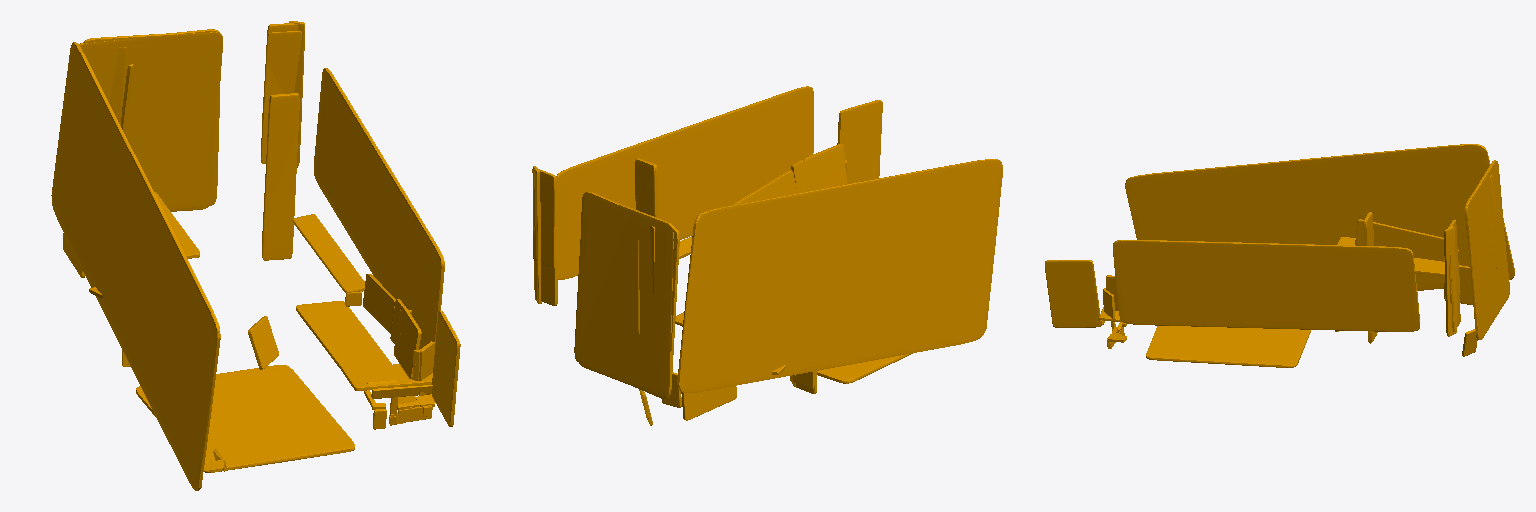
robot.urdf — scene:
<?xml version='1.0' encoding='utf-8'?>
<robot name="scene"><link name="scene_link"><visual><origin xyz="0.000000 0.000000 0.000000" rpy="0.000000 -0.000000 0.000000" /><geometry><mesh filename="part_000.obj" /></geometry></visual><collision><origin xyz="0.000000 0.000000 0.000000" rpy="0.000000 -0.000000 0.000000" /><geometry><mesh filename="part_000.obj" /></geometry></collision><visual><origin xyz="0.000000 0.000000 0.000000" rpy="0.000000 -0.000000 0.000000" /><geometry><mesh filename="part_001.obj" /></geometry></visual><collision><origin xyz="0.000000 0.000000 0.000000" rpy="0.000000 -0.000000 0.000000" /><geometry><mesh filename="part_001.obj" /></geometry></collision><visual><origin xyz="0.000000 0.000000 0.000000" rpy="0.000000 -0.000000 0.000000" /><geometry><mesh filename="part_002.obj" /></geometry></visual><collision><origin xyz="0.000000 0.000000 0.000000" rpy="0.000000 -0.000000 0.000000" /><geometry><mesh filename="part_002.obj" /></geometry></collision><visual><origin xyz="0.000000 0.000000 0.000000" rpy="0.000000 -0.000000 0.000000" /><geometry><mesh filename="part_003.obj" /></geometry></visual><collision><origin xyz="0.000000 0.000000 0.000000" rpy="0.000000 -0.000000 0.000000" /><geometry><mesh filename="part_003.obj" /></geometry></collision><visual><origin xyz="0.000000 0.000000 0.000000" rpy="0.000000 -0.000000 0.000000" /><geometry><mesh filename="part_004.obj" /></geometry></visual><collision><origin xyz="0.000000 0.000000 0.000000" rpy="0.000000 -0.000000 0.000000" /><geometry><mesh filename="part_004.obj" /></geometry></collision><visual><origin xyz="0.000000 0.000000 0.000000" rpy="0.000000 -0.000000 0.000000" /><geometry><mesh filename="part_005.obj" /></geometry></visual><collision><origin xyz="0.000000 0.000000 0.000000" rpy="0.000000 -0.000000 0.000000" /><geometry><mesh filename="part_005.obj" /></geometry></collision><visual><origin xyz="0.000000 0.000000 0.000000" rpy="0.000000 -0.000000 0.000000" /><geometry><mesh filename="part_006.obj" /></geometry></visual><collision><origin xyz="0.000000 0.000000 0.000000" rpy="0.000000 -0.000000 0.000000" /><geometry><mesh filename="part_006.obj" /></geometry></collision><visual><origin xyz="0.000000 0.000000 0.000000" rpy="0.000000 -0.000000 0.000000" /><geometry><mesh filename="part_007.obj" /></geometry></visual><collision><origin xyz="0.000000 0.000000 0.000000" rpy="0.000000 -0.000000 0.000000" /><geometry><mesh filename="part_007.obj" /></geometry></collision><visual><origin xyz="0.000000 0.000000 0.000000" rpy="0.000000 -0.000000 0.000000" /><geometry><mesh filename="part_008.obj" /></geometry></visual><collision><origin xyz="0.000000 0.000000 0.000000" rpy="0.000000 -0.000000 0.000000" /><geometry><mesh filename="part_008.obj" /></geometry></collision><visual><origin xyz="0.000000 0.000000 0.000000" rpy="0.000000 -0.000000 0.000000" /><geometry><mesh filename="part_009.obj" /></geometry></visual><collision><origin xyz="0.000000 0.000000 0.000000" rpy="0.000000 -0.000000 0.000000" /><geometry><mesh filename="part_009.obj" /></geometry></collision><visual><origin xyz="0.000000 0.000000 0.000000" rpy="0.000000 -0.000000 0.000000" /><geometry><mesh filename="part_010.obj" /></geometry></visual><collision><origin xyz="0.000000 0.000000 0.000000" rpy="0.000000 -0.000000 0.000000" /><geometry><mesh filename="part_010.obj" /></geometry></collision><visual><origin xyz="0.000000 0.000000 0.000000" rpy="0.000000 -0.000000 0.000000" /><geometry><mesh filename="part_011.obj" /></geometry></visual><collision><origin xyz="0.000000 0.000000 0.000000" rpy="0.000000 -0.000000 0.000000" /><geometry><mesh filename="part_011.obj" /></geometry></collision><visual><origin xyz="0.000000 0.000000 0.000000" rpy="0.000000 -0.000000 0.000000" /><geometry><mesh filename="part_012.obj" /></geometry></visual><collision><origin xyz="0.000000 0.000000 0.000000" rpy="0.000000 -0.000000 0.000000" /><geometry><mesh filename="part_012.obj" /></geometry></collision><visual><origin xyz="0.000000 0.000000 0.000000" rpy="0.000000 -0.000000 0.000000" /><geometry><mesh filename="part_013.obj" /></geometry></visual><collision><origin xyz="0.000000 0.000000 0.000000" rpy="0.000000 -0.000000 0.000000" /><geometry><mesh filename="part_013.obj" /></geometry></collision><visual><origin xyz="0.000000 0.000000 0.000000" rpy="0.000000 -0.000000 0.000000" /><geometry><mesh filename="part_014.obj" /></geometry></visual><collision><origin xyz="0.000000 0.000000 0.000000" rpy="0.000000 -0.000000 0.000000" /><geometry><mesh filename="part_014.obj" /></geometry></collision><visual><origin xyz="0.000000 0.000000 0.000000" rpy="0.000000 -0.000000 0.000000" /><geometry><mesh filename="part_015.obj" /></geometry></visual><collision><origin xyz="0.000000 0.000000 0.000000" rpy="0.000000 -0.000000 0.000000" /><geometry><mesh filename="part_015.obj" /></geometry></collision><visual><origin xyz="0.000000 0.000000 0.000000" rpy="0.000000 -0.000000 0.000000" /><geometry><mesh filename="part_016.obj" /></geometry></visual><collision><origin xyz="0.000000 0.000000 0.000000" rpy="0.000000 -0.000000 0.000000" /><geometry><mesh filename="part_016.obj" /></geometry></collision><visual><origin xyz="0.000000 0.000000 0.000000" rpy="0.000000 -0.000000 0.000000" /><geometry><mesh filename="part_017.obj" /></geometry></visual><collision><origin xyz="0.000000 0.000000 0.000000" rpy="0.000000 -0.000000 0.000000" /><geometry><mesh filename="part_017.obj" /></geometry></collision><visual><origin xyz="0.000000 0.000000 0.000000" rpy="0.000000 -0.000000 0.000000" /><geometry><mesh filename="part_018.obj" /></geometry></visual><collision><origin xyz="0.000000 0.000000 0.000000" rpy="0.000000 -0.000000 0.000000" /><geometry><mesh filename="part_018.obj" /></geometry></collision><visual><origin xyz="0.000000 0.000000 0.000000" rpy="0.000000 -0.000000 0.000000" /><geometry><mesh filename="part_019.obj" /></geometry></visual><collision><origin xyz="0.000000 0.000000 0.000000" rpy="0.000000 -0.000000 0.000000" /><geometry><mesh filename="part_019.obj" /></geometry></collision><visual><origin xyz="0.000000 0.000000 0.000000" rpy="0.000000 -0.000000 0.000000" /><geometry><mesh filename="part_020.obj" /></geometry></visual><collision><origin xyz="0.000000 0.000000 0.000000" rpy="0.000000 -0.000000 0.000000" /><geometry><mesh filename="part_020.obj" /></geometry></collision><visual><origin xyz="0.000000 0.000000 0.000000" rpy="0.000000 -0.000000 0.000000" /><geometry><mesh filename="part_021.obj" /></geometry></visual><collision><origin xyz="0.000000 0.000000 0.000000" rpy="0.000000 -0.000000 0.000000" /><geometry><mesh filename="part_021.obj" /></geometry></collision><visual><origin xyz="0.000000 0.000000 0.000000" rpy="0.000000 -0.000000 0.000000" /><geometry><mesh filename="part_022.obj" /></geometry></visual><collision><origin xyz="0.000000 0.000000 0.000000" rpy="0.000000 -0.000000 0.000000" /><geometry><mesh filename="part_022.obj" /></geometry></collision><visual><origin xyz="0.000000 0.000000 0.000000" rpy="0.000000 -0.000000 0.000000" /><geometry><mesh filename="part_023.obj" /></geometry></visual><collision><origin xyz="0.000000 0.000000 0.000000" rpy="0.000000 -0.000000 0.000000" /><geometry><mesh filename="part_023.obj" /></geometry></collision><visual><origin xyz="0.000000 0.000000 0.000000" rpy="0.000000 -0.000000 0.000000" /><geometry><mesh filename="part_024.obj" /></geometry></visual><collision><origin xyz="0.000000 0.000000 0.000000" rpy="0.000000 -0.000000 0.000000" /><geometry><mesh filename="part_024.obj" /></geometry></collision><visual><origin xyz="0.000000 0.000000 0.000000" rpy="0.000000 -0.000000 0.000000" /><geometry><mesh filename="part_025.obj" /></geometry></visual><collision><origin xyz="0.000000 0.000000 0.000000" rpy="0.000000 -0.000000 0.000000" /><geometry><mesh filename="part_025.obj" /></geometry></collision><visual><origin xyz="0.000000 0.000000 0.000000" rpy="0.000000 -0.000000 0.000000" /><geometry><mesh filename="part_026.obj" /></geometry></visual><collision><origin xyz="0.000000 0.000000 0.000000" rpy="0.000000 -0.000000 0.000000" /><geometry><mesh filename="part_026.obj" /></geometry></collision><visual><origin xyz="0.000000 0.000000 0.000000" rpy="0.000000 -0.000000 0.000000" /><geometry><mesh filename="part_027.obj" /></geometry></visual><collision><origin xyz="0.000000 0.000000 0.000000" rpy="0.000000 -0.000000 0.000000" /><geometry><mesh filename="part_027.obj" /></geometry></collision><visual><origin xyz="0.000000 0.000000 0.000000" rpy="0.000000 -0.000000 0.000000" /><geometry><mesh filename="part_028.obj" /></geometry></visual><collision><origin xyz="0.000000 0.000000 0.000000" rpy="0.000000 -0.000000 0.000000" /><geometry><mesh filename="part_028.obj" /></geometry></collision><visual><origin xyz="0.000000 0.000000 0.000000" rpy="0.000000 -0.000000 0.000000" /><geometry><mesh filename="part_029.obj" /></geometry></visual><collision><origin xyz="0.000000 0.000000 0.000000" rpy="0.000000 -0.000000 0.000000" /><geometry><mesh filename="part_029.obj" /></geometry></collision><visual><origin xyz="0.000000 0.000000 0.000000" rpy="0.000000 -0.000000 0.000000" /><geometry><mesh filename="part_030.obj" /></geometry></visual><collision><origin xyz="0.000000 0.000000 0.000000" rpy="0.000000 -0.000000 0.000000" /><geometry><mesh filename="part_030.obj" /></geometry></collision><visual><origin xyz="0.000000 0.000000 0.000000" rpy="0.000000 -0.000000 0.000000" /><geometry><mesh filename="part_031.obj" /></geometry></visual><collision><origin xyz="0.000000 0.000000 0.000000" rpy="0.000000 -0.000000 0.000000" /><geometry><mesh filename="part_031.obj" /></geometry></collision><visual><origin xyz="0.000000 0.000000 0.000000" rpy="0.000000 -0.000000 0.000000" /><geometry><mesh filename="part_032.obj" /></geometry></visual><collision><origin xyz="0.000000 0.000000 0.000000" rpy="0.000000 -0.000000 0.000000" /><geometry><mesh filename="part_032.obj" /></geometry></collision><visual><origin xyz="0.000000 0.000000 0.000000" rpy="0.000000 -0.000000 0.000000" /><geometry><mesh filename="part_033.obj" /></geometry></visual><collision><origin xyz="0.000000 0.000000 0.000000" rpy="0.000000 -0.000000 0.000000" /><geometry><mesh filename="part_033.obj" /></geometry></collision><visual><origin xyz="0.000000 0.000000 0.000000" rpy="0.000000 -0.000000 0.000000" /><geometry><mesh filename="part_034.obj" /></geometry></visual><collision><origin xyz="0.000000 0.000000 0.000000" rpy="0.000000 -0.000000 0.000000" /><geometry><mesh filename="part_034.obj" /></geometry></collision><visual><origin xyz="0.000000 0.000000 0.000000" rpy="0.000000 -0.000000 0.000000" /><geometry><mesh filename="part_035.obj" /></geometry></visual><collision><origin xyz="0.000000 0.000000 0.000000" rpy="0.000000 -0.000000 0.000000" /><geometry><mesh filename="part_035.obj" /></geometry></collision><visual><origin xyz="0.000000 0.000000 0.000000" rpy="0.000000 -0.000000 0.000000" /><geometry><mesh filename="part_036.obj" /></geometry></visual><collision><origin xyz="0.000000 0.000000 0.000000" rpy="0.000000 -0.000000 0.000000" /><geometry><mesh filename="part_036.obj" /></geometry></collision><visual><origin xyz="0.000000 0.000000 0.000000" rpy="0.000000 -0.000000 0.000000" /><geometry><mesh filename="part_037.obj" /></geometry></visual><collision><origin xyz="0.000000 0.000000 0.000000" rpy="0.000000 -0.000000 0.000000" /><geometry><mesh filename="part_037.obj" /></geometry></collision><visual><origin xyz="0.000000 0.000000 0.000000" rpy="0.000000 -0.000000 0.000000" /><geometry><mesh filename="part_038.obj" /></geometry></visual><collision><origin xyz="0.000000 0.000000 0.000000" rpy="0.000000 -0.000000 0.000000" /><geometry><mesh filename="part_038.obj" /></geometry></collision><visual><origin xyz="0.000000 0.000000 0.000000" rpy="0.000000 -0.000000 0.000000" /><geometry><mesh filename="part_039.obj" /></geometry></visual><collision><origin xyz="0.000000 0.000000 0.000000" rpy="0.000000 -0.000000 0.000000" /><geometry><mesh filename="part_039.obj" /></geometry></collision><visual><origin xyz="0.000000 0.000000 0.000000" rpy="0.000000 -0.000000 0.000000" /><geometry><mesh filename="part_040.obj" /></geometry></visual><collision><origin xyz="0.000000 0.000000 0.000000" rpy="0.000000 -0.000000 0.000000" /><geometry><mesh filename="part_040.obj" /></geometry></collision><visual><origin xyz="0.000000 0.000000 0.000000" rpy="0.000000 -0.000000 0.000000" /><geometry><mesh filename="part_041.obj" /></geometry></visual><collision><origin xyz="0.000000 0.000000 0.000000" rpy="0.000000 -0.000000 0.000000" /><geometry><mesh filename="part_041.obj" /></geometry></collision><visual><origin xyz="0.000000 0.000000 0.000000" rpy="0.000000 -0.000000 0.000000" /><geometry><mesh filename="part_042.obj" /></geometry></visual><collision><origin xyz="0.000000 0.000000 0.000000" rpy="0.000000 -0.000000 0.000000" /><geometry><mesh filename="part_042.obj" /></geometry></collision><visual><origin xyz="0.000000 0.000000 0.000000" rpy="0.000000 -0.000000 0.000000" /><geometry><mesh filename="part_043.obj" /></geometry></visual><collision><origin xyz="0.000000 0.000000 0.000000" rpy="0.000000 -0.000000 0.000000" /><geometry><mesh filename="part_043.obj" /></geometry></collision><visual><origin xyz="0.000000 0.000000 0.000000" rpy="0.000000 -0.000000 0.000000" /><geometry><mesh filename="part_044.obj" /></geometry></visual><collision><origin xyz="0.000000 0.000000 0.000000" rpy="0.000000 -0.000000 0.000000" /><geometry><mesh filename="part_044.obj" /></geometry></collision><visual><origin xyz="0.000000 0.000000 0.000000" rpy="0.000000 -0.000000 0.000000" /><geometry><mesh filename="part_045.obj" /></geometry></visual><collision><origin xyz="0.000000 0.000000 0.000000" rpy="0.000000 -0.000000 0.000000" /><geometry><mesh filename="part_045.obj" /></geometry></collision><visual><origin xyz="0.000000 0.000000 0.000000" rpy="0.000000 -0.000000 0.000000" /><geometry><mesh filename="part_046.obj" /></geometry></visual><collision><origin xyz="0.000000 0.000000 0.000000" rpy="0.000000 -0.000000 0.000000" /><geometry><mesh filename="part_046.obj" /></geometry></collision><visual><origin xyz="0.000000 0.000000 0.000000" rpy="0.000000 -0.000000 0.000000" /><geometry><mesh filename="part_047.obj" /></geometry></visual><collision><origin xyz="0.000000 0.000000 0.000000" rpy="0.000000 -0.000000 0.000000" /><geometry><mesh filename="part_047.obj" /></geometry></collision><visual><origin xyz="0.000000 0.000000 0.000000" rpy="0.000000 -0.000000 0.000000" /><geometry><mesh filename="part_048.obj" /></geometry></visual><collision><origin xyz="0.000000 0.000000 0.000000" rpy="0.000000 -0.000000 0.000000" /><geometry><mesh filename="part_048.obj" /></geometry></collision><visual><origin xyz="0.000000 0.000000 0.000000" rpy="0.000000 -0.000000 0.000000" /><geometry><mesh filename="part_049.obj" /></geometry></visual><collision><origin xyz="0.000000 0.000000 0.000000" rpy="0.000000 -0.000000 0.000000" /><geometry><mesh filename="part_049.obj" /></geometry></collision><visual><origin xyz="0.000000 0.000000 0.000000" rpy="0.000000 -0.000000 0.000000" /><geometry><mesh filename="part_050.obj" /></geometry></visual><collision><origin xyz="0.000000 0.000000 0.000000" rpy="0.000000 -0.000000 0.000000" /><geometry><mesh filename="part_050.obj" /></geometry></collision><visual><origin xyz="0.000000 0.000000 0.000000" rpy="0.000000 -0.000000 0.000000" /><geometry><mesh filename="part_051.obj" /></geometry></visual><collision><origin xyz="0.000000 0.000000 0.000000" rpy="0.000000 -0.000000 0.000000" /><geometry><mesh filename="part_051.obj" /></geometry></collision><visual><origin xyz="0.000000 0.000000 0.000000" rpy="0.000000 -0.000000 0.000000" /><geometry><mesh filename="part_052.obj" /></geometry></visual><collision><origin xyz="0.000000 0.000000 0.000000" rpy="0.000000 -0.000000 0.000000" /><geometry><mesh filename="part_052.obj" /></geometry></collision><visual><origin xyz="0.000000 0.000000 0.000000" rpy="0.000000 -0.000000 0.000000" /><geometry><mesh filename="part_053.obj" /></geometry></visual><collision><origin xyz="0.000000 0.000000 0.000000" rpy="0.000000 -0.000000 0.000000" /><geometry><mesh filename="part_053.obj" /></geometry></collision><visual><origin xyz="0.000000 0.000000 0.000000" rpy="0.000000 -0.000000 0.000000" /><geometry><mesh filename="part_054.obj" /></geometry></visual><collision><origin xyz="0.000000 0.000000 0.000000" rpy="0.000000 -0.000000 0.000000" /><geometry><mesh filename="part_054.obj" /></geometry></collision><visual><origin xyz="0.000000 0.000000 0.000000" rpy="0.000000 -0.000000 0.000000" /><geometry><mesh filename="part_055.obj" /></geometry></visual><collision><origin xyz="0.000000 0.000000 0.000000" rpy="0.000000 -0.000000 0.000000" /><geometry><mesh filename="part_055.obj" /></geometry></collision><visual><origin xyz="0.000000 0.000000 0.000000" rpy="0.000000 -0.000000 0.000000" /><geometry><mesh filename="part_056.obj" /></geometry></visual><collision><origin xyz="0.000000 0.000000 0.000000" rpy="0.000000 -0.000000 0.000000" /><geometry><mesh filename="part_056.obj" /></geometry></collision><visual><origin xyz="0.000000 0.000000 0.000000" rpy="0.000000 -0.000000 0.000000" /><geometry><mesh filename="part_057.obj" /></geometry></visual><collision><origin xyz="0.000000 0.000000 0.000000" rpy="0.000000 -0.000000 0.000000" /><geometry><mesh filename="part_057.obj" /></geometry></collision><visual><origin xyz="0.000000 0.000000 0.000000" rpy="0.000000 -0.000000 0.000000" /><geometry><mesh filename="part_058.obj" /></geometry></visual><collision><origin xyz="0.000000 0.000000 0.000000" rpy="0.000000 -0.000000 0.000000" /><geometry><mesh filename="part_058.obj" /></geometry></collision></link></robot>

--- Facts derived from the render (not from the file) ---
Views: 3 orthographic renders of the robot side by side, from view 1: azimuth 30°, elevation 25°; view 2: azimuth 150°, elevation 25°; view 3: azimuth 270°, elevation 25°.
Model scene with 1 links and 0 joints (none), rooted at scene_link, posed every joint at zero.
Links seen in each view (by area): view 1: scene_link; view 2: scene_link; view 3: scene_link.
Link boxes in pixels (x1,y1,x2,y2): scene_link: [51, 21, 460, 490]; scene_link: [532, 86, 1002, 425]; scene_link: [1045, 144, 1514, 367].
Bounding box of the posed robot: 3.48 × 6.28 × 2.97 m (x, y, z).
59 mesh visuals loaded from 59 distinct referenced files (59 OBJ).